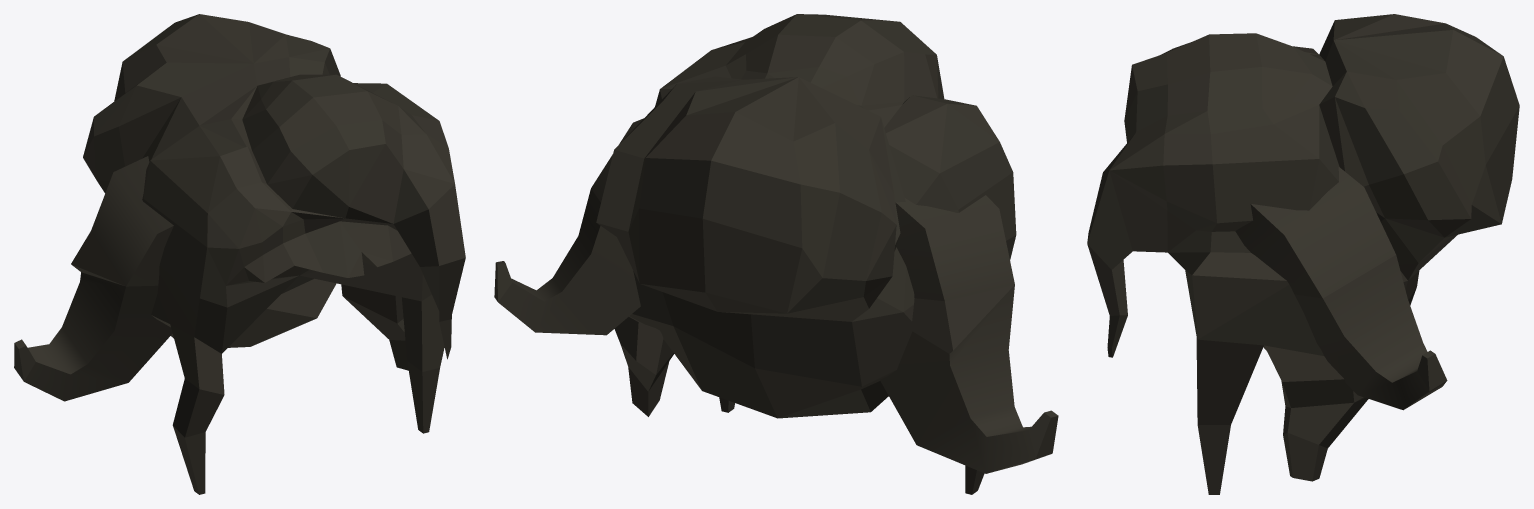
Rendered from SM_Chr_Attach_Blobber_Hair_01.fbx.
3 views of the same model, side by side, from view 1: azimuth 30°, elevation 25°; view 2: azimuth 150°, elevation 25°; view 3: azimuth 270°, elevation 25° (orthographic). The views are drawn at different scales.
Visible parts, largest first — view 1: SM_Chr_Attach_Blobber_Hair_01; view 2: SM_Chr_Attach_Blobber_Hair_01; view 3: SM_Chr_Attach_Blobber_Hair_01.
Part boxes in pixels (x1,y1,x2,y2): SM_Chr_Attach_Blobber_Hair_01: (14, 14, 465, 494); SM_Chr_Attach_Blobber_Hair_01: (494, 14, 1058, 494); SM_Chr_Attach_Blobber_Hair_01: (1087, 14, 1519, 494).
Size of the model in its own units: 54.08 by 43.54 by 41.02.
